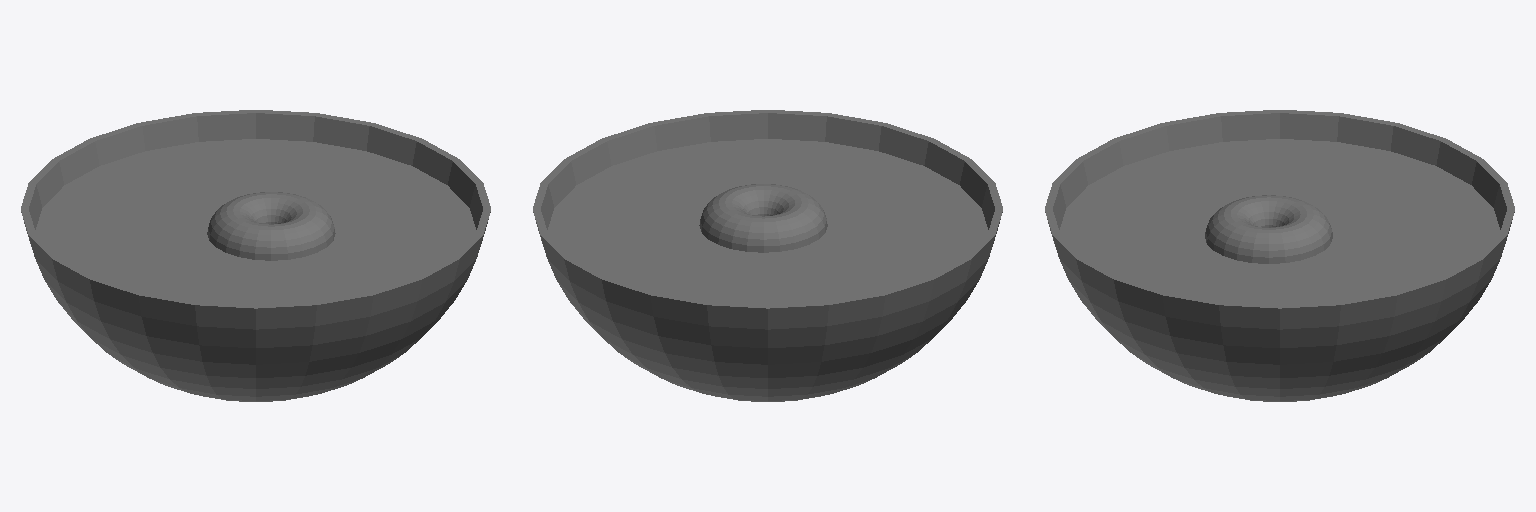
robot.urdf — object:
<?xml version="1.0"?>
<robot name="object">
  <link name="object">
    <visual>
      <origin xyz="0 0 0"/>
      <geometry>
        <mesh
          filename="../../mesh/oakink_virtual/bowl_s195.stl" />
      </geometry>
      <material name="mat">
        <color rgba="0.5 0.5 0.5 1"/>
      </material>
    </visual>

    <collision>
      <origin xyz="0 0 0"/>
      <geometry>
        <mesh
          filename="../../mesh/oakink_virtual/bowl_s195.stl" />
      </geometry>
    </collision>
  </link>
</robot>

--- What the picture shows (computed from the rendered views, not written in the file) ---
The picture shows the robot from 3 angles, left to right: view 1: azimuth 30°, elevation 25°; view 2: azimuth 150°, elevation 25°; view 3: azimuth 270°, elevation 25°; orthographic projection.
Robot: object — 1 links, 0 joints (none); root link object; default pose: all joints at 0.
Links seen in each view (by area): view 1: object; view 2: object; view 3: object.
Boxes of the visible links, x1,y1,x2,y2 form: object: (21,110,490,401); object: (533,110,1002,401); object: (1045,110,1514,401).
Bounding box of the posed robot: 0.1432 × 0.1432 × 0.0558 m (x, y, z).
Meshes: 1 distinct files referenced, 1 mesh visuals loaded (1 binary STL).